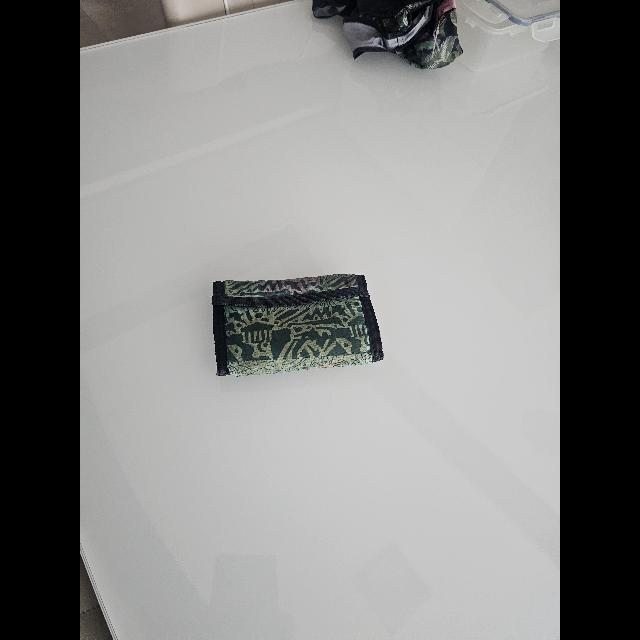Wallet: (212, 274, 384, 376)
